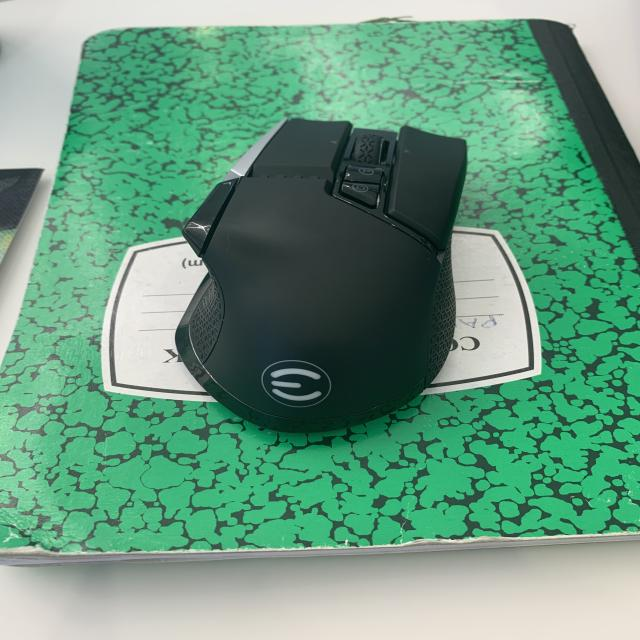Mouse: (173, 111, 471, 445)
